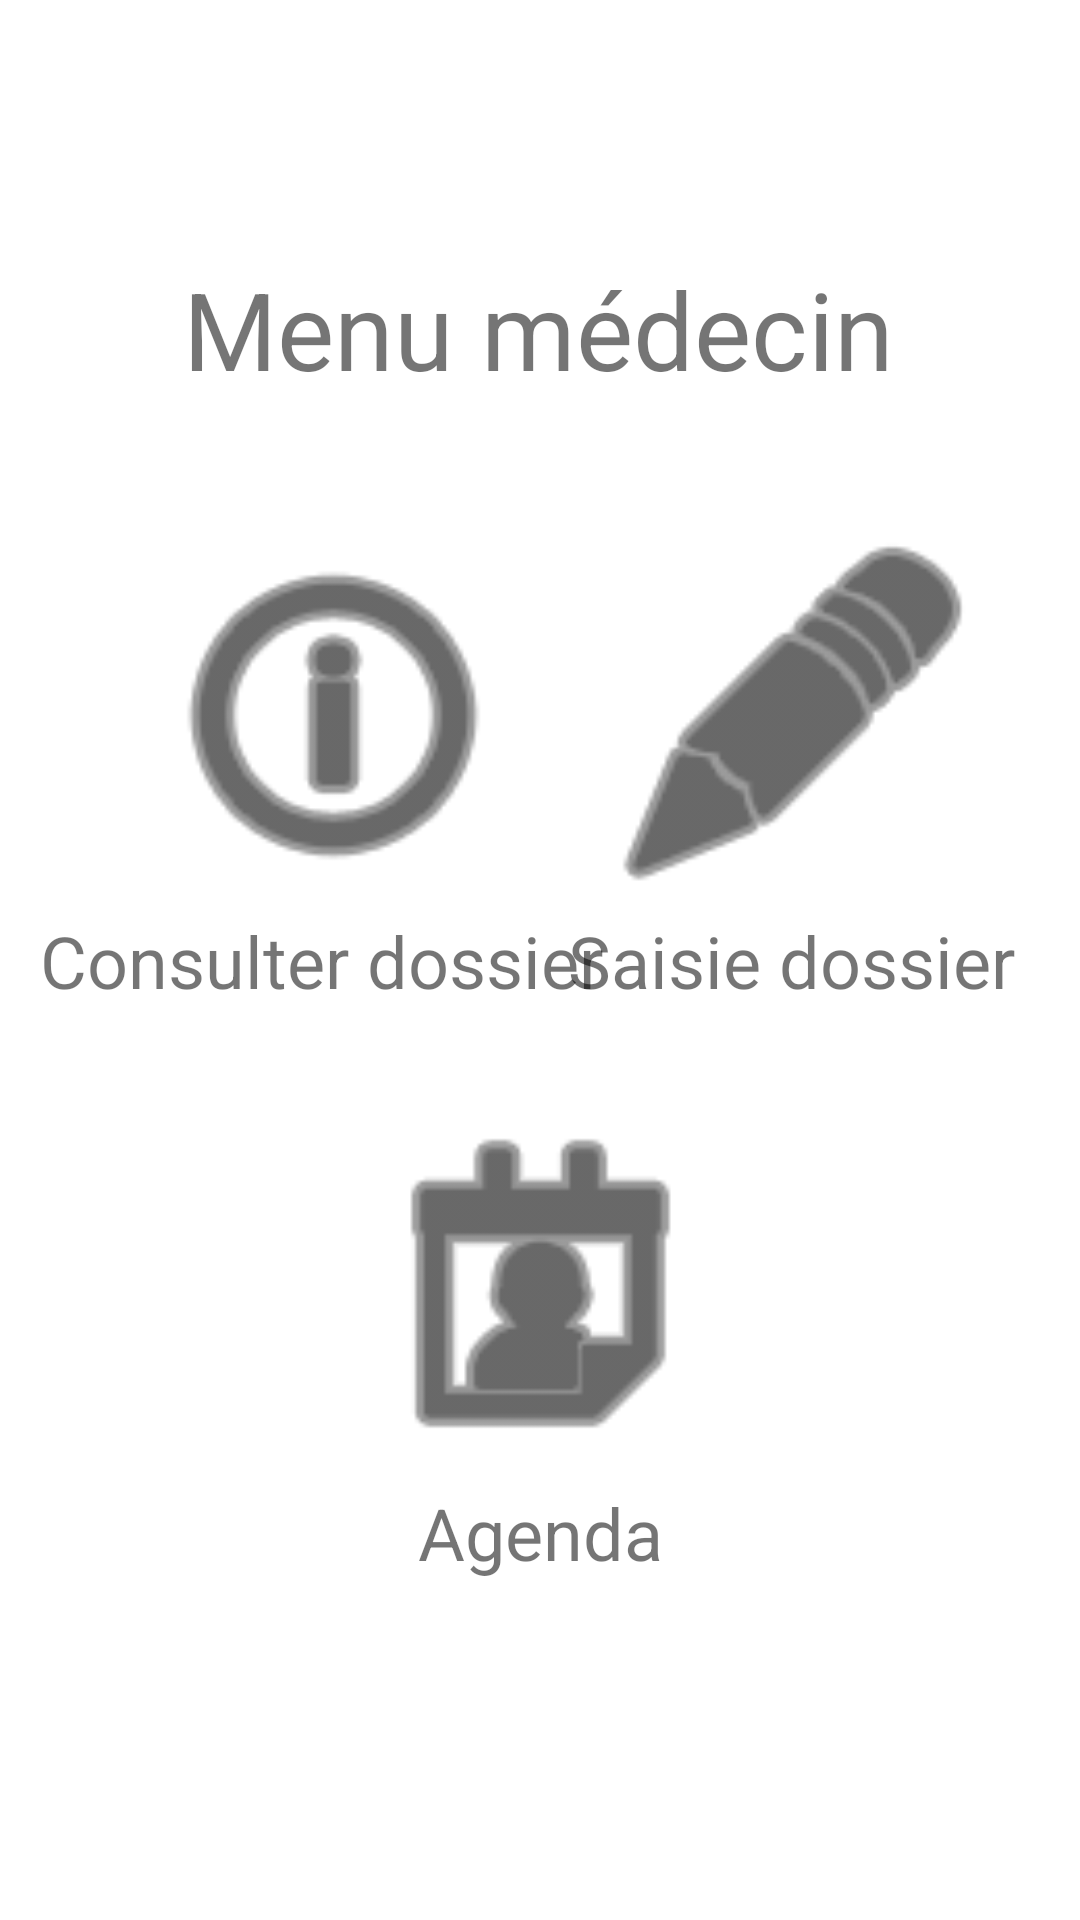

Where icons sit on this 1080x1920 app screen, as (x1, y1, x2, y2):
edit: (624, 546, 962, 880)
info details: (189, 574, 478, 858)
